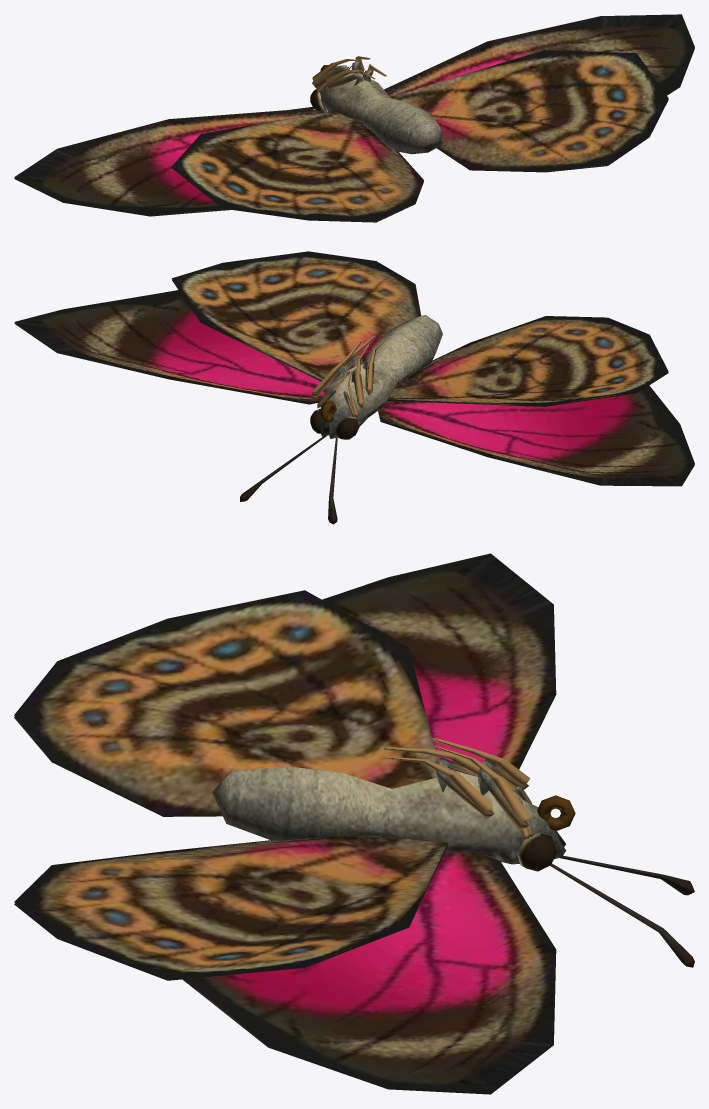
The model's file is agrias-butterfly.glb.
3 views of the same model, one above another, from view 1: azimuth 30°, elevation 25°; view 2: azimuth 150°, elevation 25°; view 3: azimuth 270°, elevation 25° (orthographic). The views are drawn at different scales.
Parts seen in each view (by area): view 1: InsectMiirotateha_node7; view 2: InsectMiirotateha_node7; view 3: InsectMiirotateha_node7.
Boxes of the visible parts, x1,y1,x2,y2 form: InsectMiirotateha_node7: (14,14,694,222); InsectMiirotateha_node7: (14,251,694,524); InsectMiirotateha_node7: (14,553,694,1094).
Size of the model in its own units: 5.59 by 0.9132 by 2.99.
Materials: 1 (1 with a texture image).
